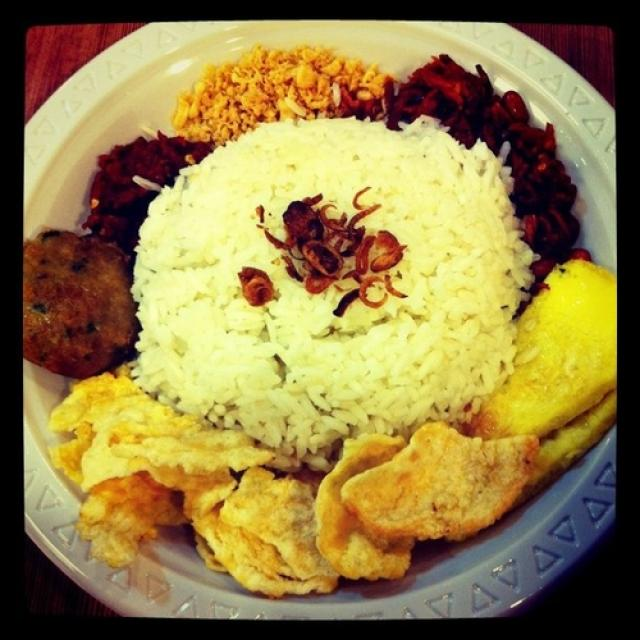米饭主食: (54, 40, 589, 599)
